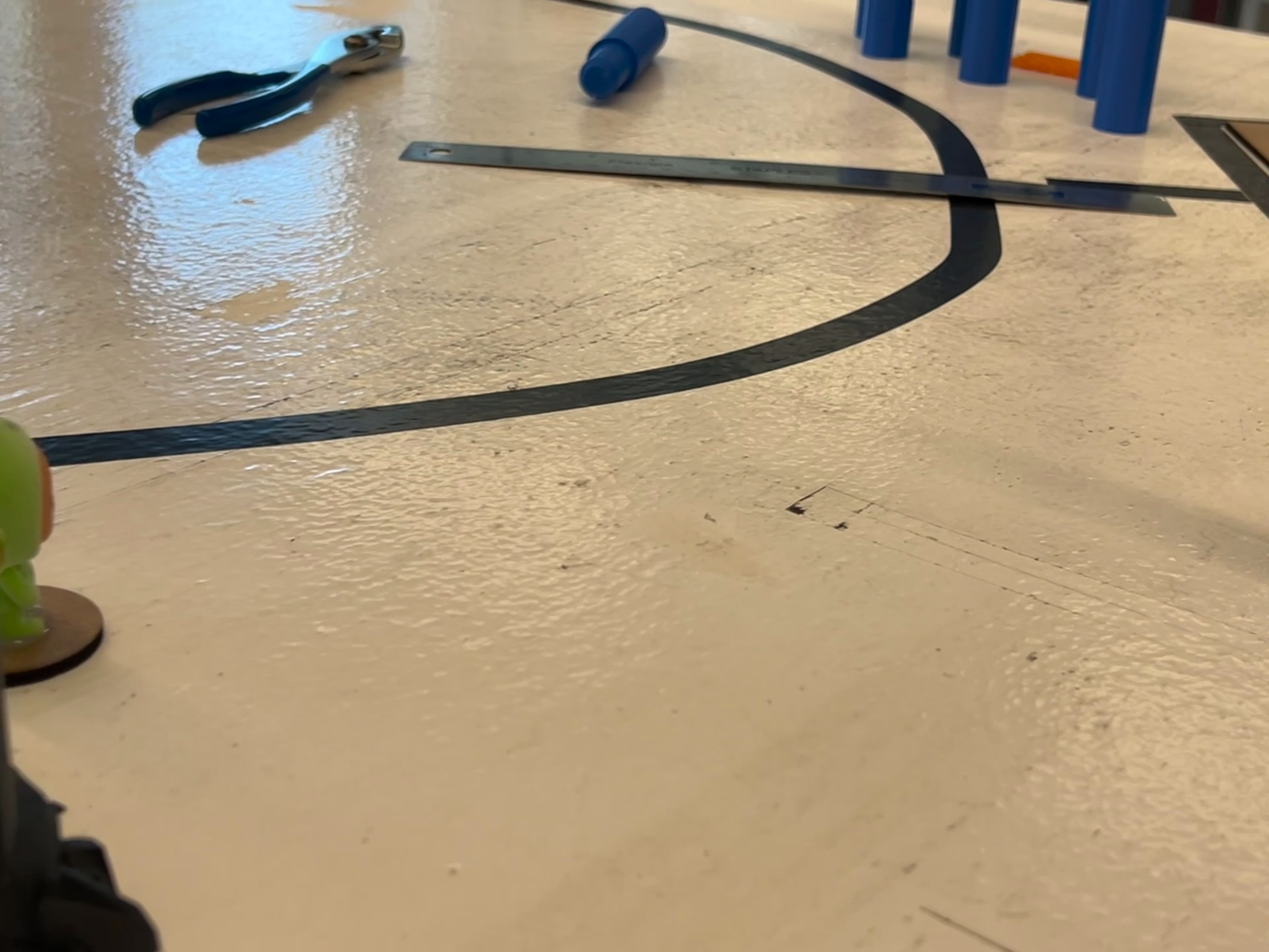teletubby: (0, 418, 54, 649)
